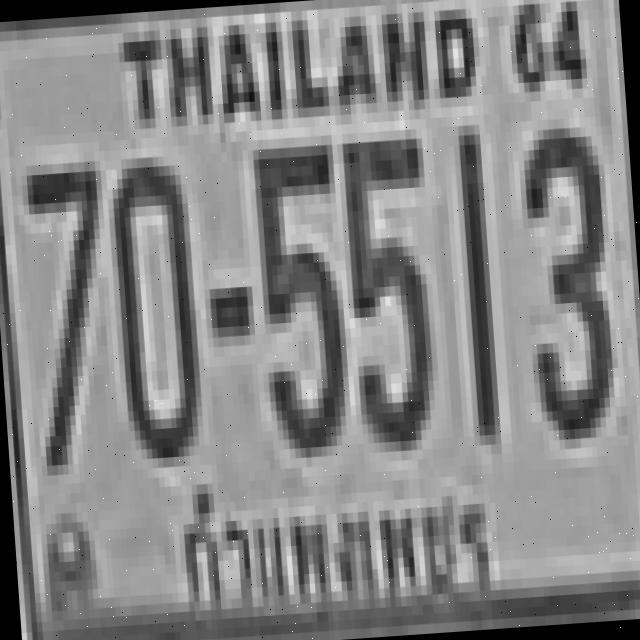0: (104, 150, 200, 455)
1: (452, 124, 495, 436), (450, 125, 492, 436)
3: (516, 116, 611, 432)
5: (246, 135, 348, 450), (337, 129, 438, 444)
7: (20, 151, 115, 466)
KamphaengPhet: (166, 455, 504, 635)
